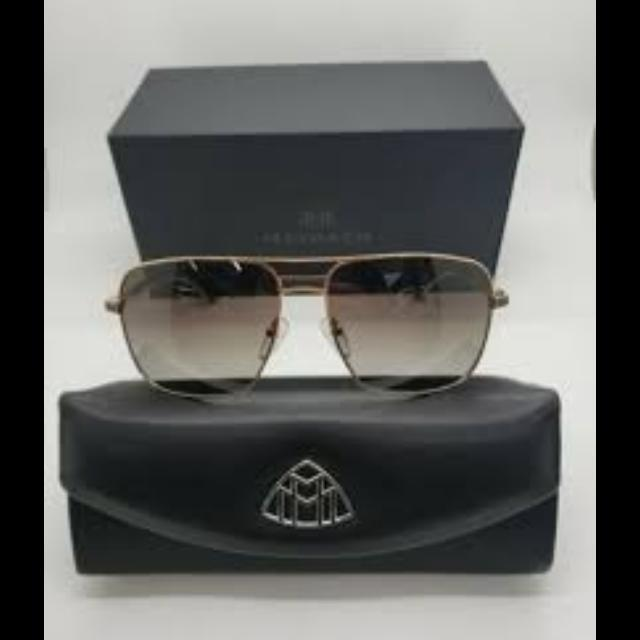glasses: (105, 251, 508, 404)
